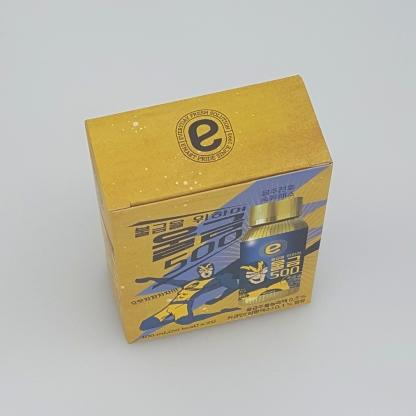----500100ML_2-200ML: (84, 74, 333, 345)
